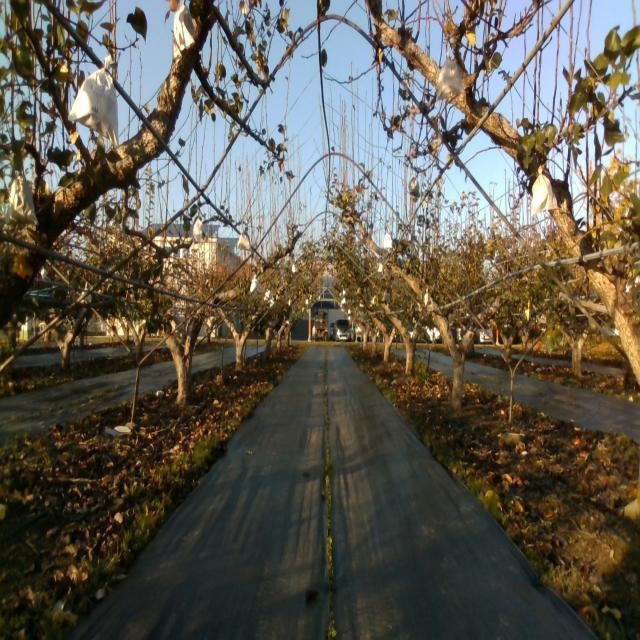pearbags: (67, 51, 123, 150), (6, 171, 39, 224), (435, 49, 465, 104), (531, 164, 560, 220), (172, 0, 195, 63), (408, 172, 420, 198), (193, 218, 203, 244), (237, 231, 250, 250)
